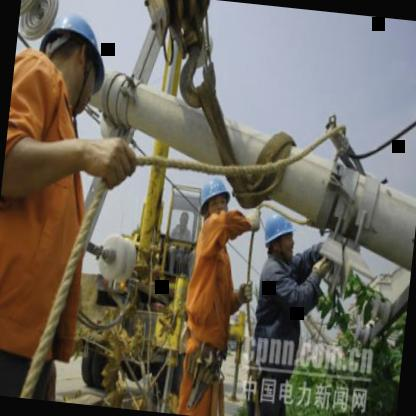helmet: (36, 3, 113, 110), (196, 172, 236, 230), (260, 212, 298, 266)
